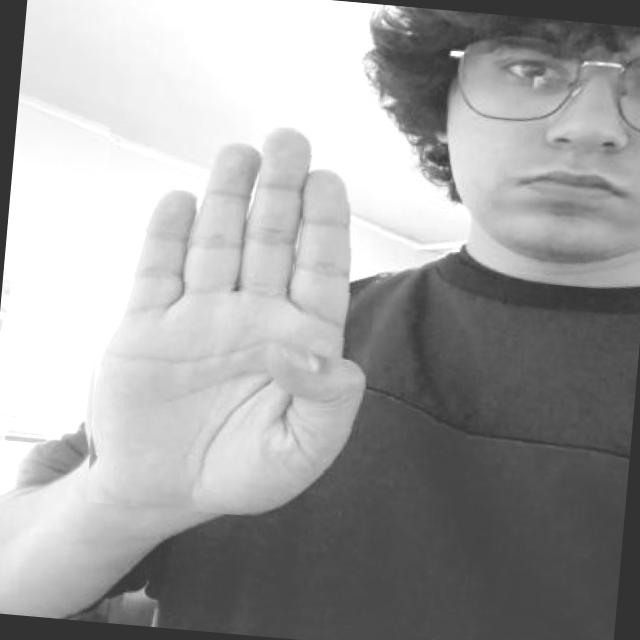B: (78, 113, 388, 525)
